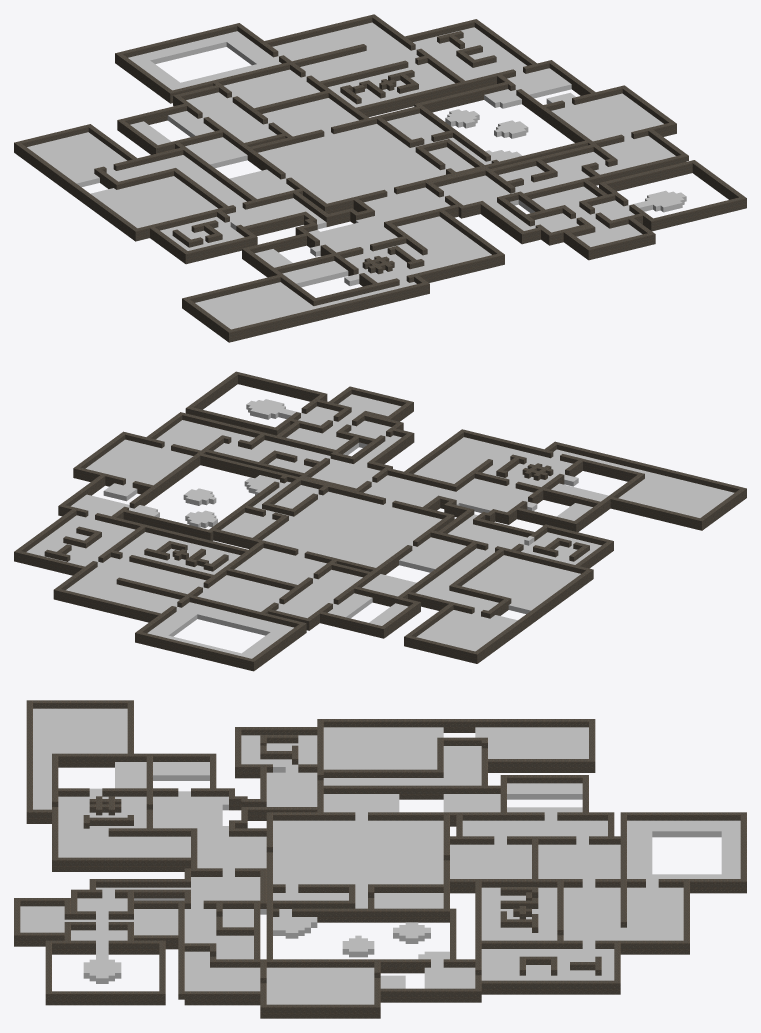
Rendered from BasicLevel.fbx.
3 views of the same model, one above another, from view 1: azimuth 30°, elevation 25°; view 2: azimuth 150°, elevation 25°; view 3: azimuth 270°, elevation 25° (orthographic). The views are drawn at different scales.
Visible parts, largest first — view 1: Mesh; view 2: Mesh; view 3: Mesh.
Part boxes in pixels (box(x1,y1,x2,y2)): Mesh: box(14, 14, 746, 342); Mesh: box(14, 371, 746, 671); Mesh: box(14, 700, 746, 1018).
Size of the model in its own units: 115 by 2 by 116.
